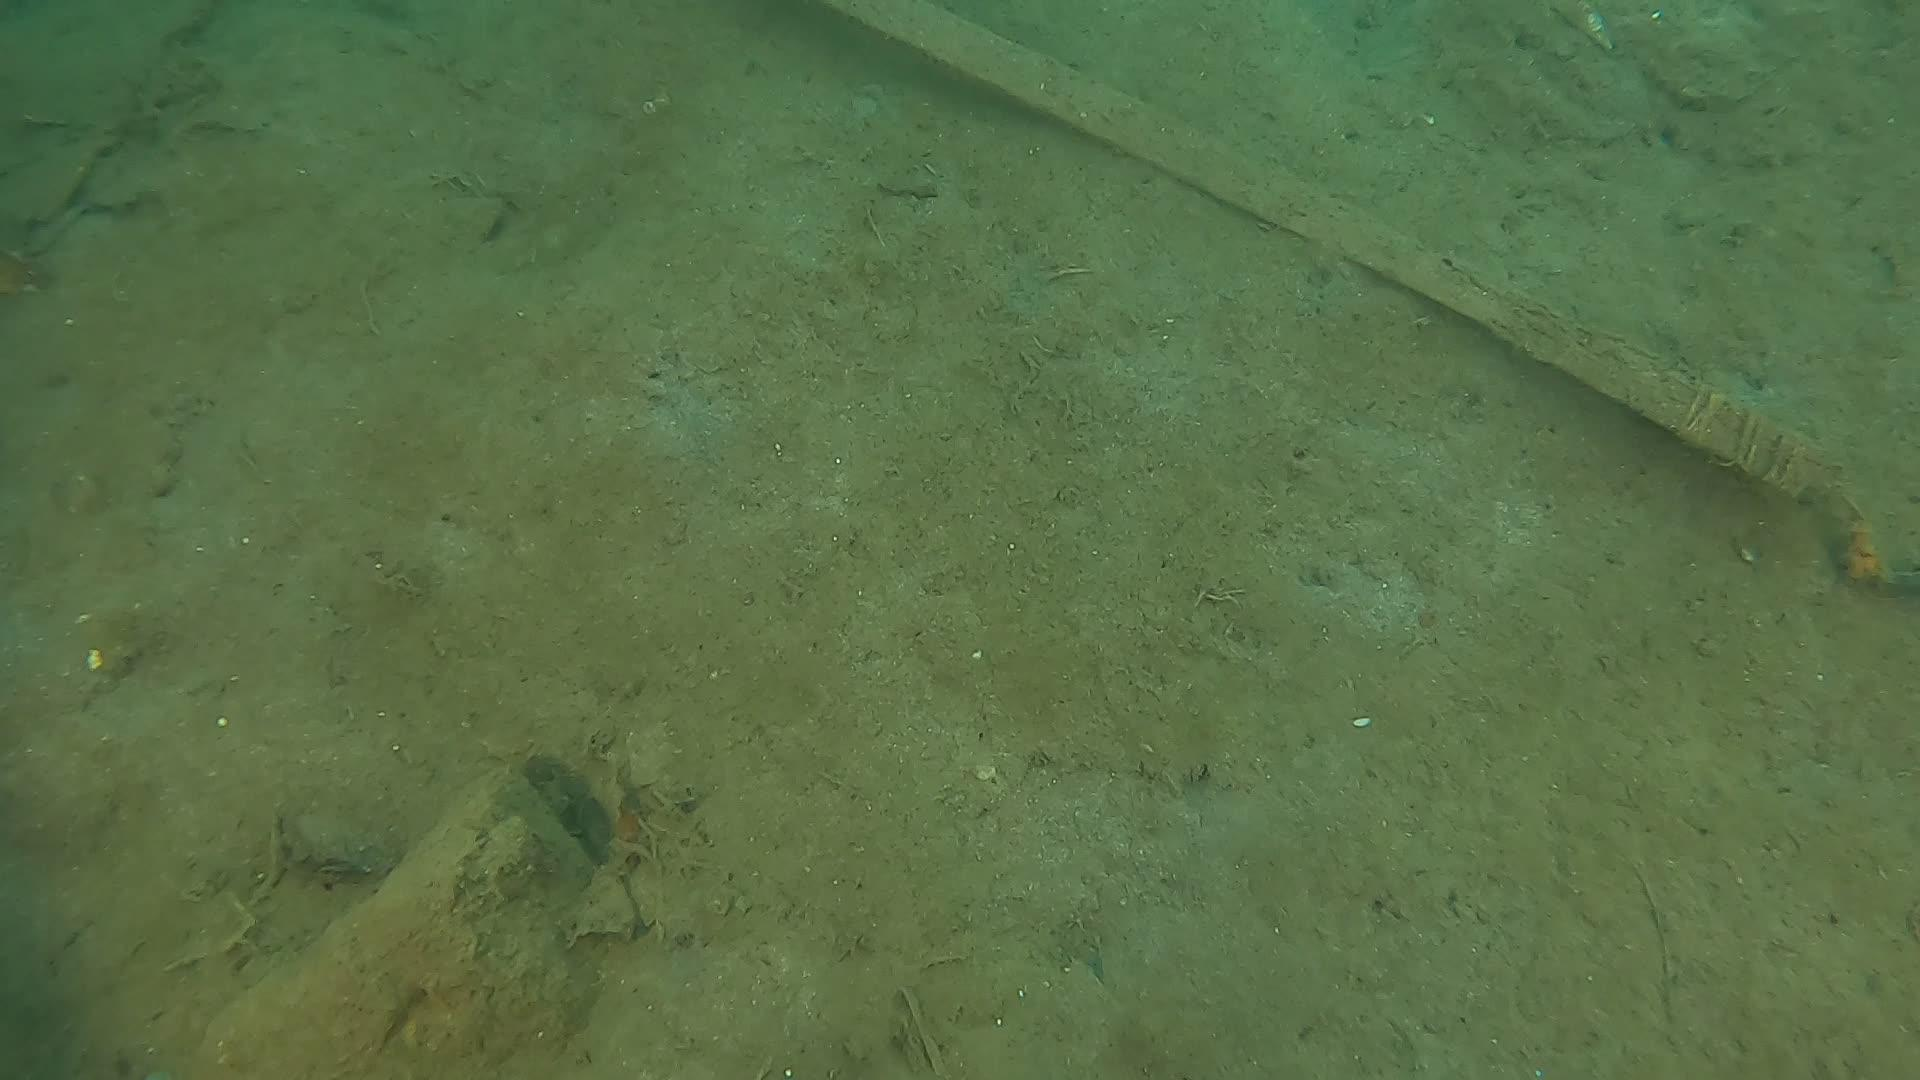wood: (822, 0, 1826, 496)
